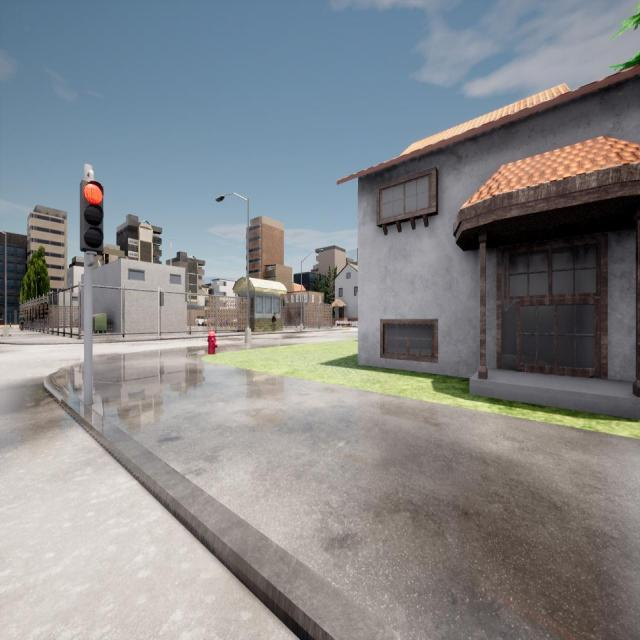Pedestrian: (19, 311, 25, 331), (271, 312, 276, 330)
Vehicle: (196, 316, 207, 326)
traffic_light: (80, 182, 104, 250), (159, 292, 164, 306)
